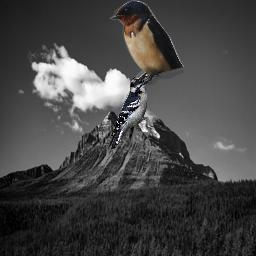Swallow: (110, 0, 184, 85)
Woodpecker: (110, 75, 154, 150)
